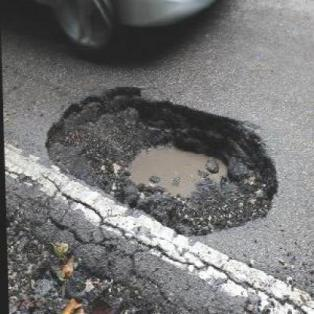Hueco: (41, 83, 278, 239)
